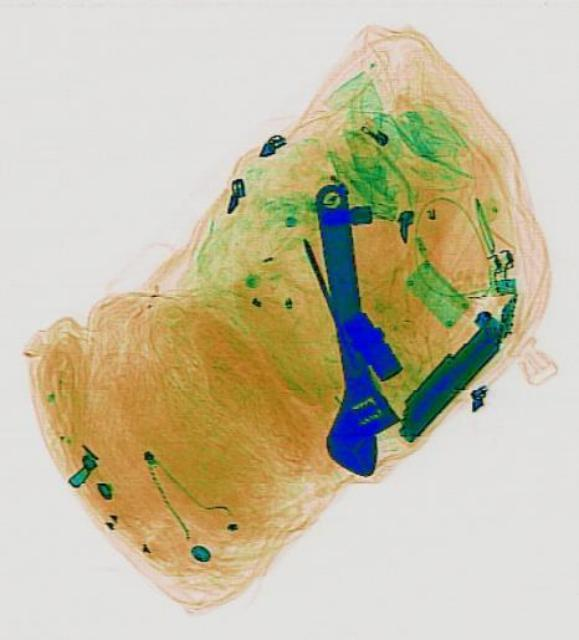Wrench: (293, 176, 403, 478)
